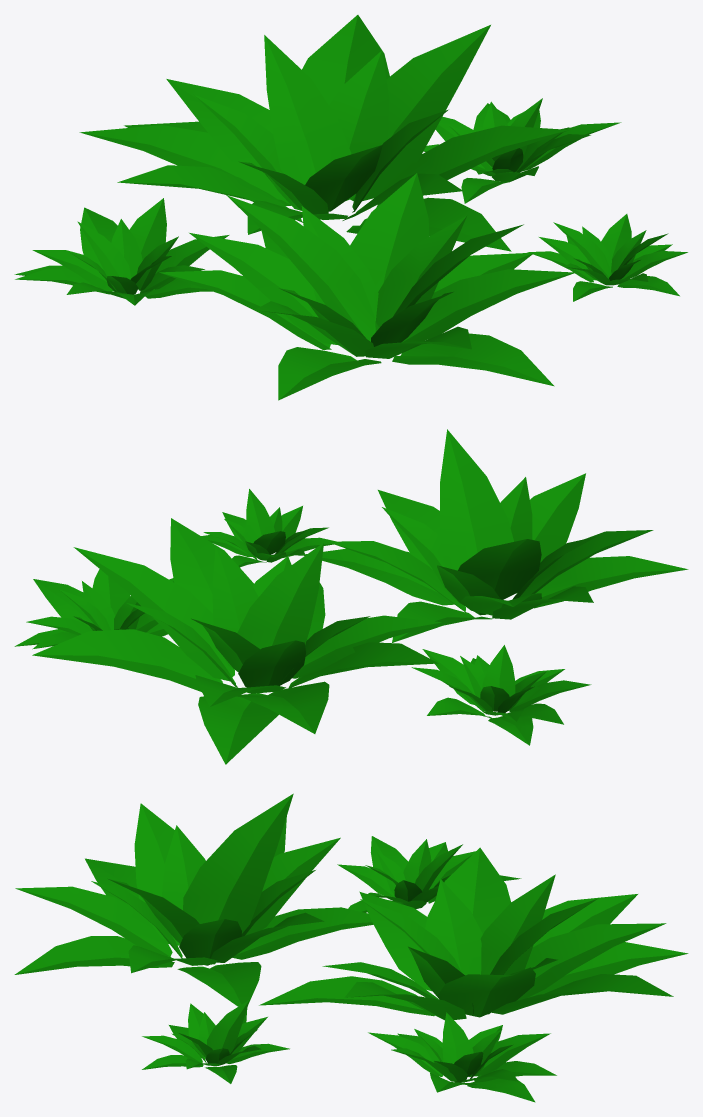
Rendered from SM_Bush_002_LOD1.fbx.
3 views of the same model, one above another, from view 1: azimuth 30°, elevation 25°; view 2: azimuth 150°, elevation 25°; view 3: azimuth 270°, elevation 25° (orthographic). The views are drawn at different scales.
Visible parts, largest first — view 1: Bush_02; view 2: Bush_02; view 3: Bush_02.
Part boxes in pixels (<box>): Bush_02: <box>14,15,687,400</box>; Bush_02: <box>14,429,688,764</box>; Bush_02: <box>14,793,688,1102</box>.
Bounding box in the file's own units: 719 × 161 × 780.
